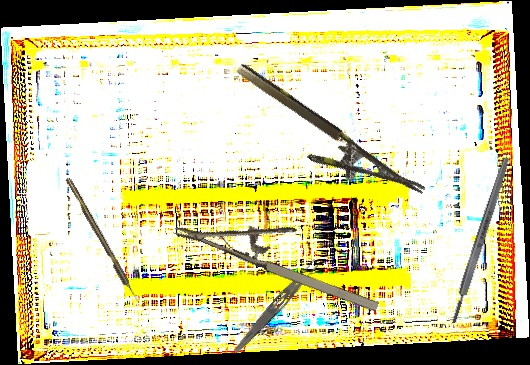Dressing Forceps: (231, 256, 323, 358)
Hook Surgical: (64, 176, 141, 305)
Needle Holder: (219, 60, 426, 224), (172, 185, 394, 318)
Scalpel Handle: (448, 156, 512, 325)
